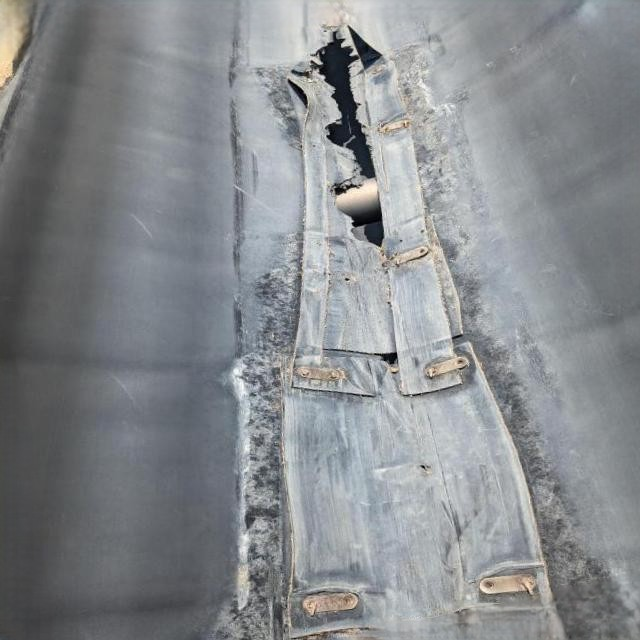Hole: (286, 0, 394, 256)
